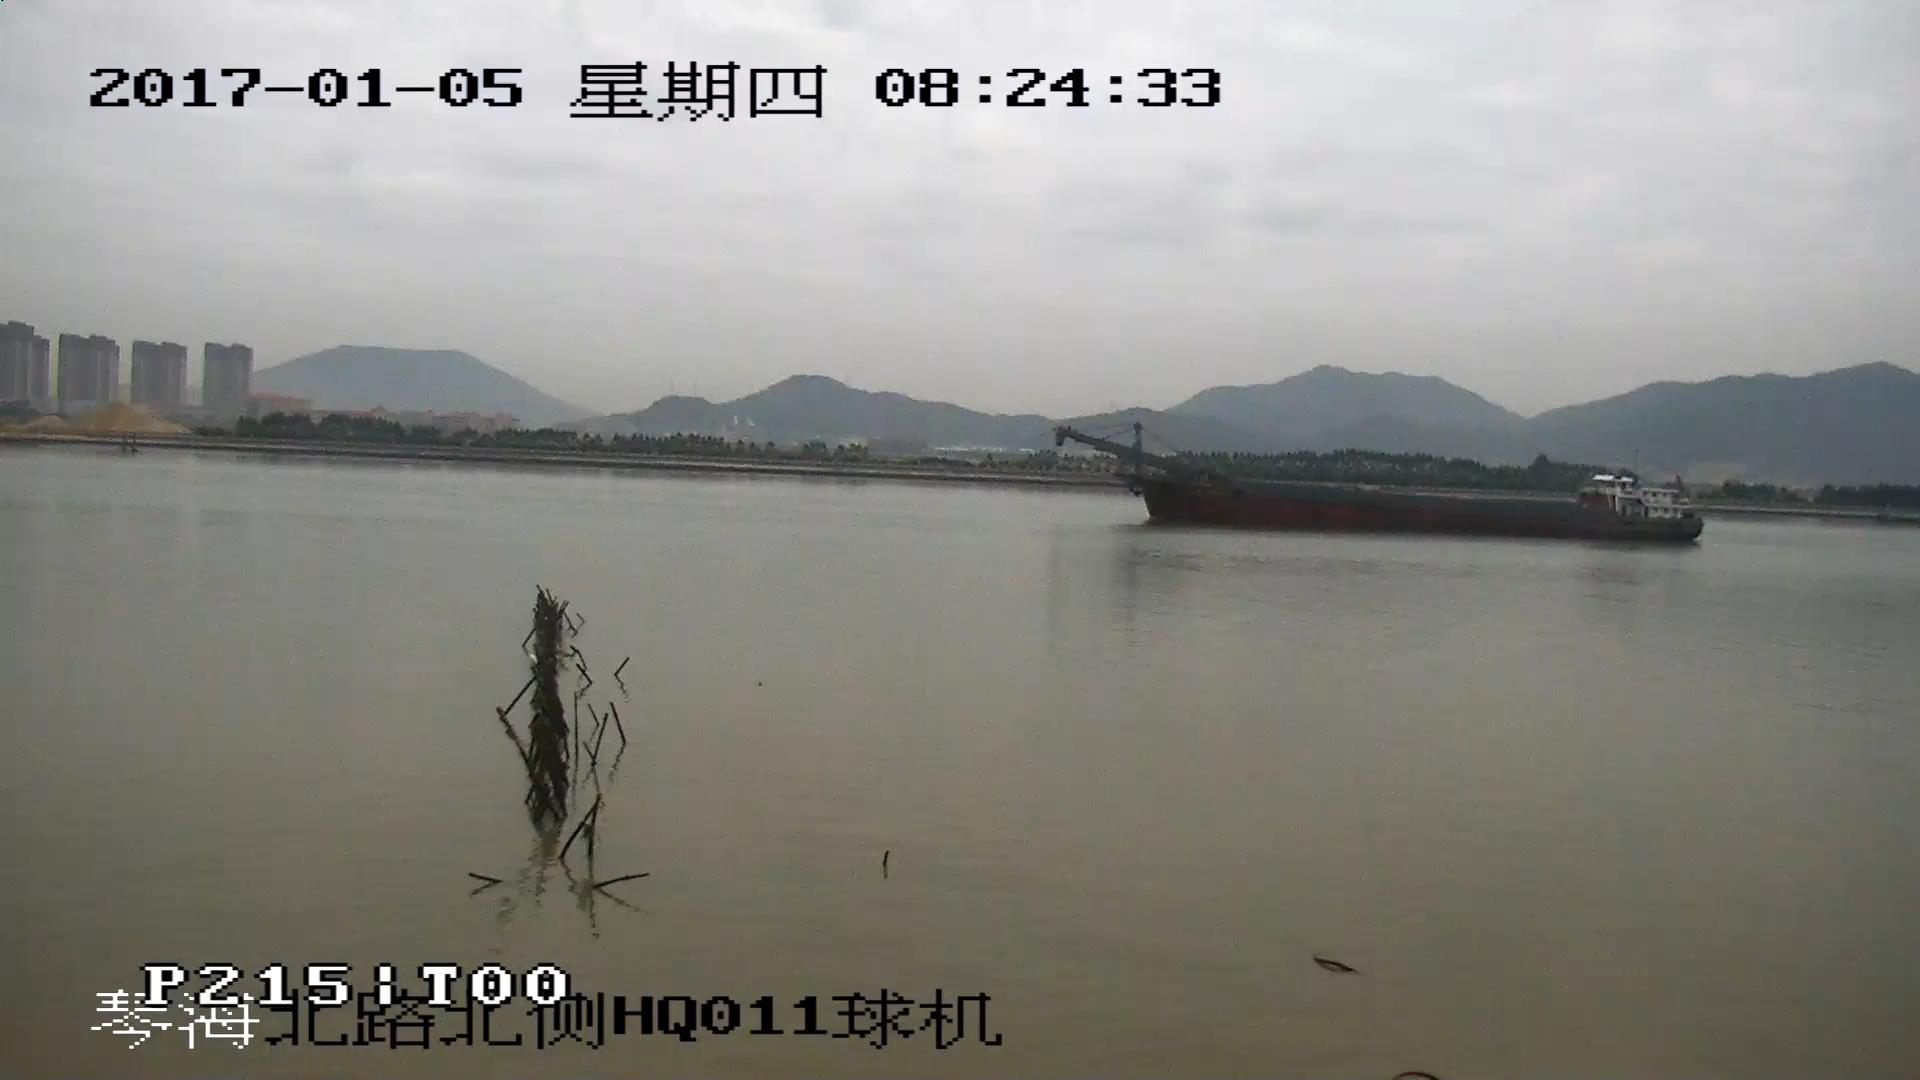bulk cargo carrier: (1060, 429, 1704, 544)
